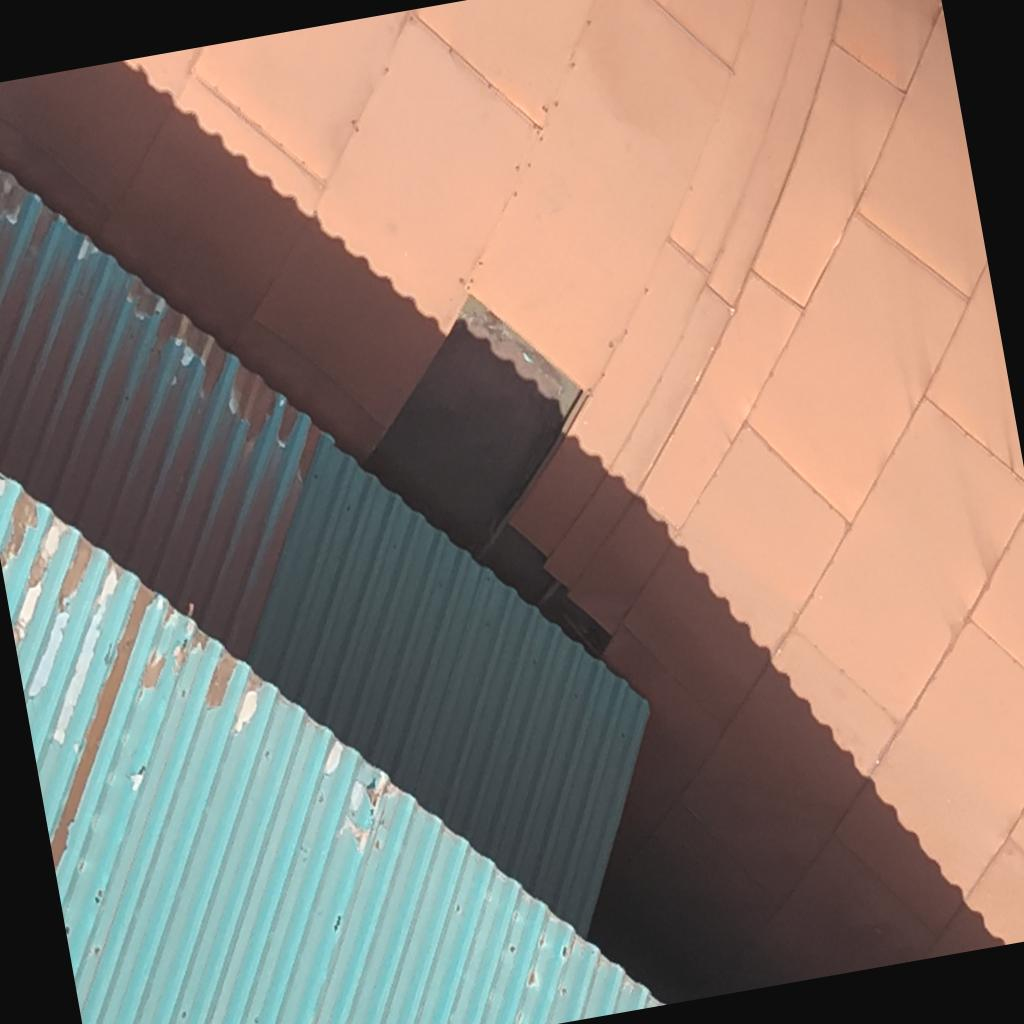Failures: (350, 281, 666, 680)
